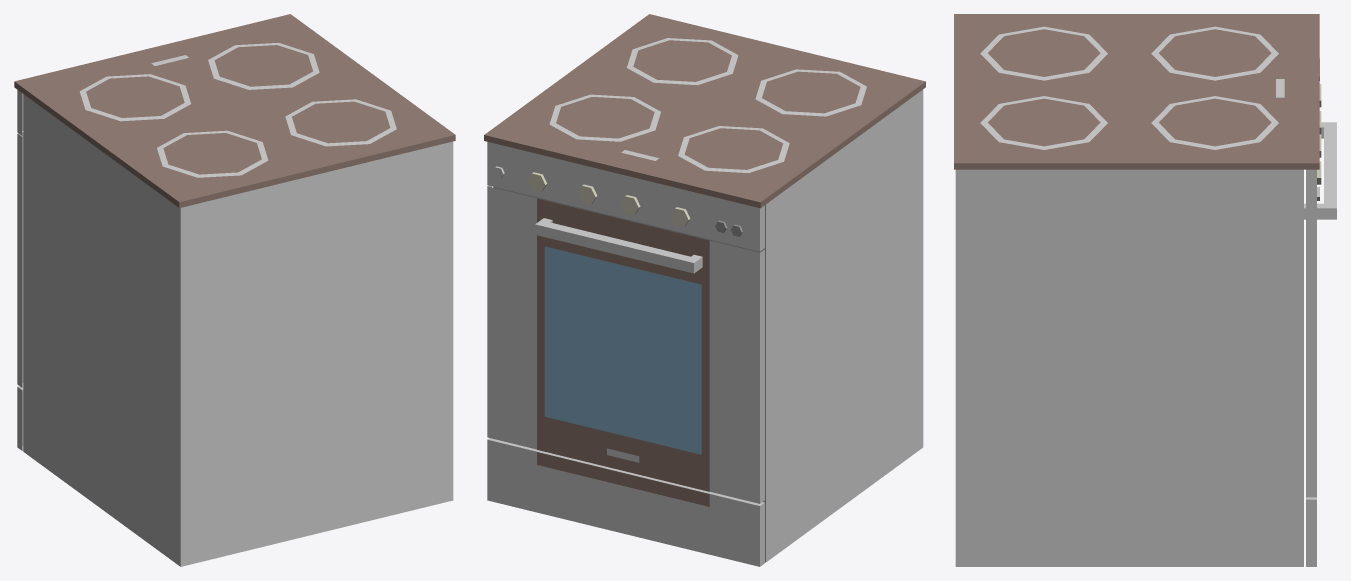
The model's file is oven.glb.
The picture shows the model from 3 angles, left to right: view 1: azimuth 30°, elevation 25°; view 2: azimuth 150°, elevation 25°; view 3: azimuth 270°, elevation 25°; orthographic projection. The views are drawn at different scales.
Parts seen in each view (by area): view 1: New_Game_Object_mat0_0.001; view 2: New_Game_Object_mat0_0.001; view 3: New_Game_Object_mat0_0.001.
Part boxes in pixels (bbox=[...]): New_Game_Object_mat0_0.001: bbox=[14, 14, 455, 566]; New_Game_Object_mat0_0.001: bbox=[484, 14, 925, 566]; New_Game_Object_mat0_0.001: bbox=[954, 14, 1336, 566].
Size of the model in its own units: 0.5167 by 0.655 by 0.5601.
